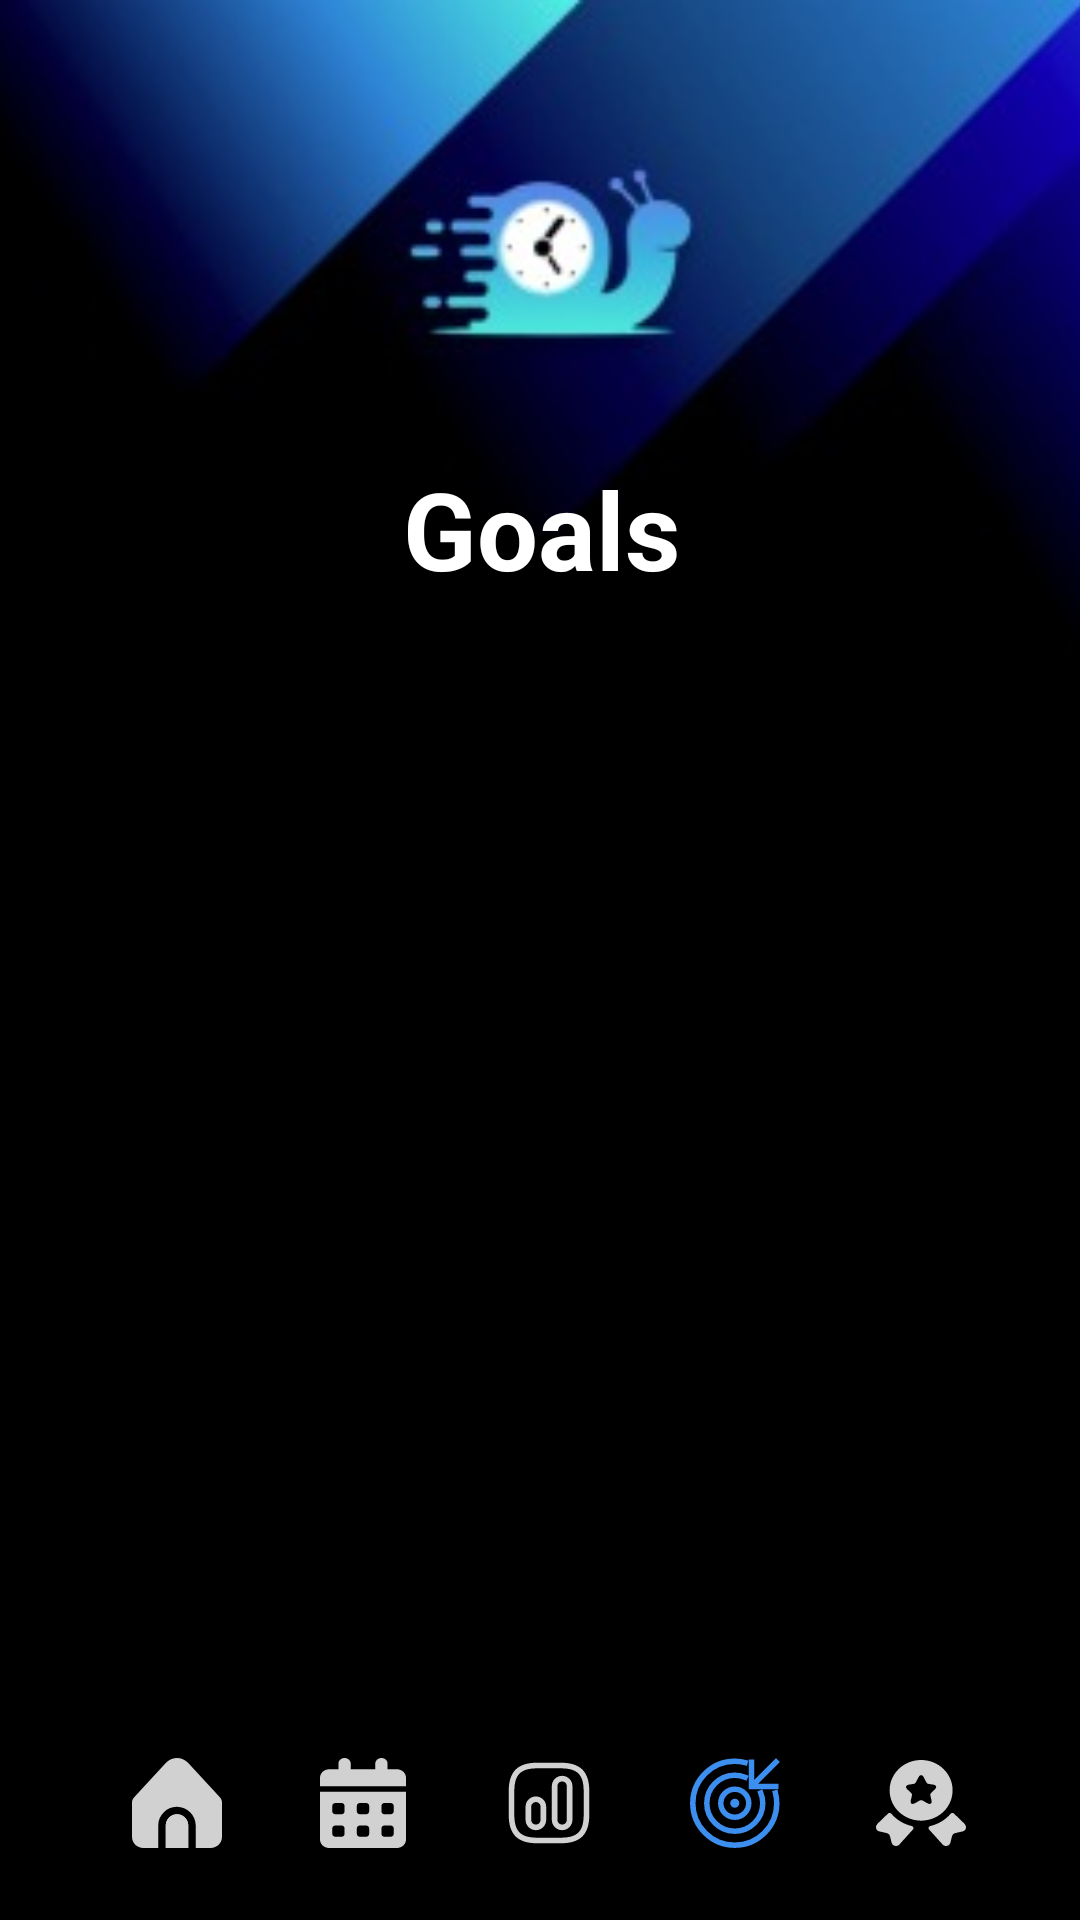

Where icons sit on this 1080 × 1920 app screen, as rect(x1, y1, x2, y2):
calander: rect(320, 1758, 406, 1848)
goals: rect(690, 1758, 780, 1848)
home: rect(132, 1758, 222, 1848)
stats: rect(508, 1762, 590, 1844)
